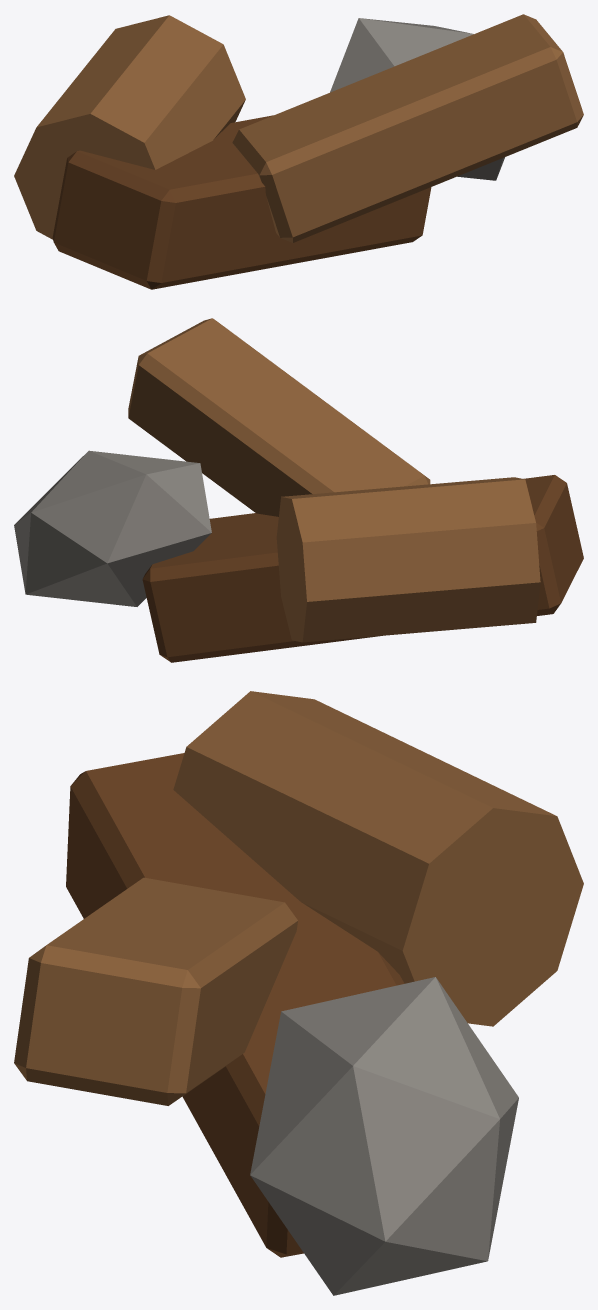
File: debris_cluster.glb
3 renders of one model, top to bottom at view 1: azimuth 30°, elevation 25°; view 2: azimuth 150°, elevation 25°; view 3: azimuth 270°, elevation 25°, orthographic. The views are drawn at different scales.
Visible parts, largest first — view 1: GEO_wood, GEO_wooddark, GEO_stone; view 2: GEO_wood, GEO_stone, GEO_wooddark; view 3: GEO_wood, GEO_stone, GEO_wooddark.
Part boxes in pixels (box(x1,y1,x2,y2)): GEO_wood: box(14, 14, 583, 242); GEO_wooddark: box(52, 115, 431, 289); GEO_stone: box(330, 18, 504, 180); GEO_wood: box(128, 318, 540, 642); GEO_stone: box(14, 450, 211, 606); GEO_wooddark: box(142, 475, 583, 662); GEO_wood: box(14, 691, 583, 1105); GEO_stone: box(250, 977, 518, 1295); GEO_wooddark: box(66, 753, 404, 1257).
Size of the model in its own units: 1.44 by 0.6185 by 0.8979.
